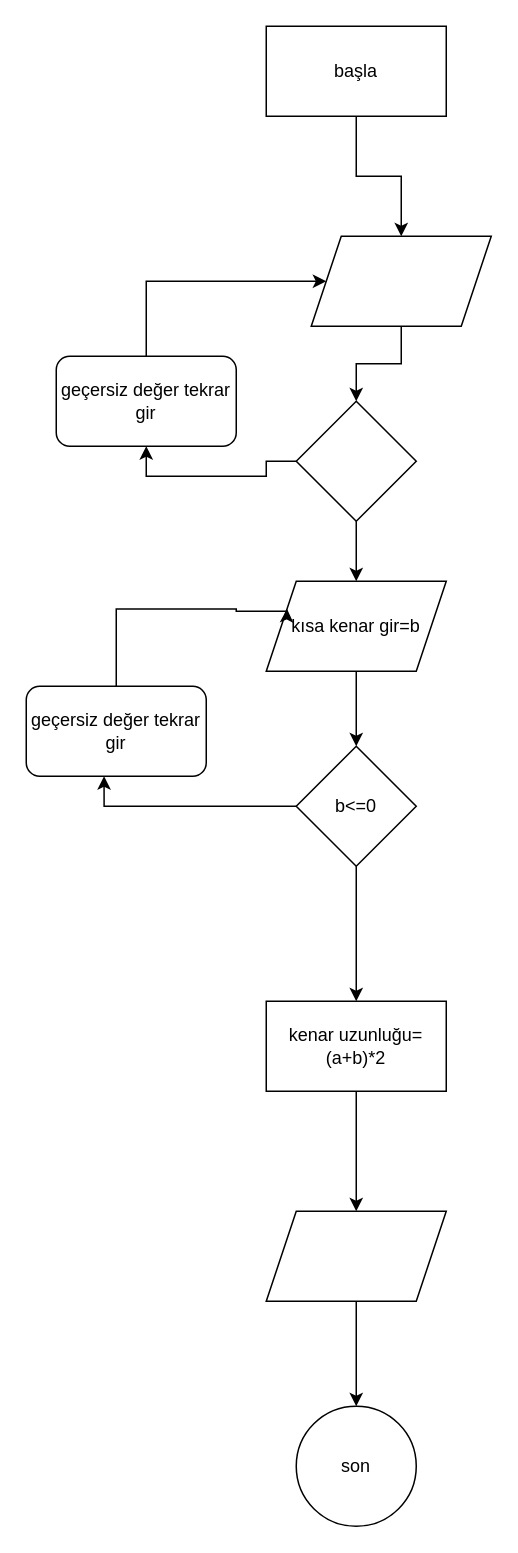
The diagram is 518 pixels wide and 1553 high, and some of its shapes have lost their labels. The centre of each missing label's shape, as x and y in pixels:
"a<=0" goes at (x=355, y=460).
"print(kenar uzunluğu)" goes at (x=355, y=1255).
"uzun kenar gir=a" goes at (x=400, y=280).
